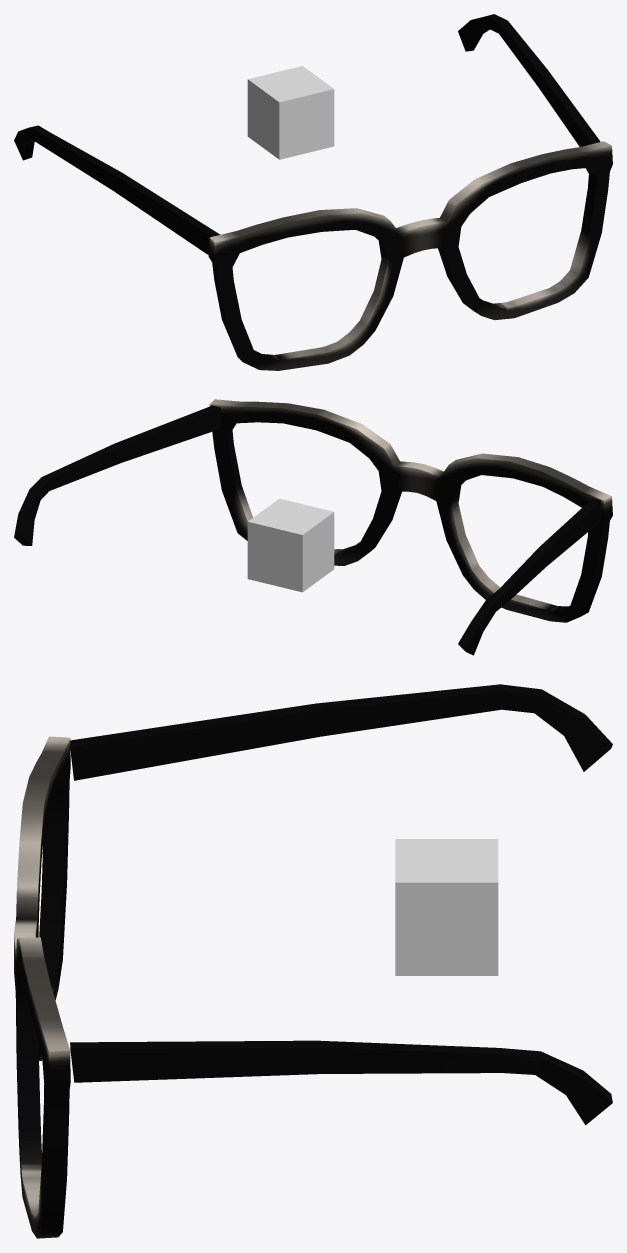
The model's file is boy_glasses1.FBX.
3 renders of one model, top to bottom at view 1: azimuth 30°, elevation 25°; view 2: azimuth 150°, elevation 25°; view 3: azimuth 270°, elevation 25°, orthographic. The views are drawn at different scales.
Visible parts, largest first — view 1: boy_glasses09, faceSpawn; view 2: boy_glasses09, faceSpawn; view 3: boy_glasses09, faceSpawn.
Part boxes in pixels (left/top/right/bottom): boy_glasses09: left=14, top=14, right=612, bottom=370; faceSpawn: left=247, top=66, right=334, bottom=159; boy_glasses09: left=14, top=399, right=612, bottom=655; faceSpawn: left=247, top=498, right=334, bottom=592; boy_glasses09: left=14, top=684, right=612, bottom=1238; faceSpawn: left=395, top=839, right=498, bottom=975.
Bounding box in the file's own units: 42.55 × 14.05 × 29.06.
